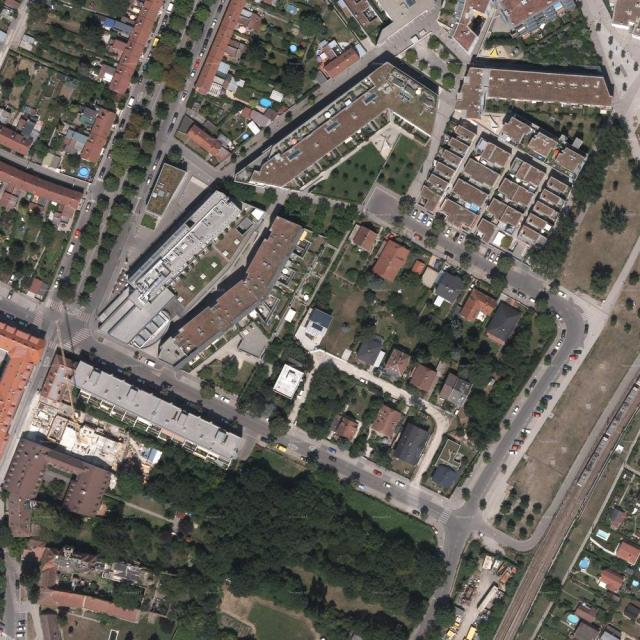building: (226, 41, 460, 245), (410, 87, 595, 268), (64, 359, 245, 474), (123, 187, 244, 304), (0, 436, 114, 559), (25, 394, 144, 476), (454, 59, 613, 119), (172, 279, 261, 358), (237, 214, 304, 302), (106, 0, 165, 97), (190, 0, 248, 96), (39, 546, 155, 588), (108, 281, 177, 348), (37, 586, 143, 624), (59, 99, 118, 166), (214, 4, 267, 67), (498, 0, 576, 39), (426, 438, 473, 492), (40, 352, 84, 407), (291, 304, 336, 354), (315, 37, 362, 81), (482, 301, 524, 348), (184, 122, 231, 164), (371, 238, 412, 285), (391, 422, 432, 467), (458, 287, 499, 330), (207, 59, 248, 101), (342, 0, 385, 36), (234, 322, 273, 361), (96, 286, 134, 325), (98, 298, 136, 335), (437, 373, 473, 410), (369, 404, 404, 442), (238, 97, 277, 131), (272, 364, 305, 400), (206, 60, 235, 100), (0, 124, 34, 158), (432, 270, 465, 305), (407, 362, 440, 395), (353, 334, 385, 368), (347, 224, 380, 254), (595, 566, 627, 596), (382, 348, 412, 380), (333, 413, 363, 443), (99, 15, 134, 39), (605, 506, 629, 533), (26, 276, 51, 301), (573, 601, 600, 624), (105, 35, 129, 59), (418, 265, 441, 290), (140, 445, 162, 467), (18, 33, 39, 54), (97, 64, 117, 85), (41, 151, 63, 170), (216, 132, 236, 152), (178, 114, 196, 136), (60, 357, 78, 378), (411, 259, 427, 277), (246, 120, 262, 136), (76, 166, 91, 180), (270, 90, 284, 102)
dryland: (550, 154, 640, 306)
greenland: (428, 285, 586, 448), (52, 132, 158, 313), (306, 130, 435, 215), (328, 480, 443, 554), (482, 92, 612, 150), (514, 7, 603, 90), (283, 356, 363, 445), (141, 442, 228, 522), (274, 173, 363, 249), (0, 200, 69, 291), (521, 205, 596, 285), (234, 26, 313, 98), (157, 0, 213, 101), (358, 263, 430, 338), (20, 476, 90, 553), (399, 28, 471, 100), (53, 564, 147, 613), (143, 0, 195, 85), (259, 327, 320, 388), (233, 360, 288, 425), (27, 101, 80, 168), (377, 134, 431, 197), (314, 605, 410, 640), (492, 486, 547, 542), (353, 312, 441, 346), (184, 82, 244, 131), (346, 392, 386, 462), (211, 173, 279, 212), (451, 537, 485, 596), (481, 250, 522, 298), (75, 398, 128, 434), (31, 40, 82, 75), (0, 515, 34, 564), (258, 448, 305, 483), (122, 103, 157, 145), (261, 406, 297, 443), (116, 456, 144, 500), (125, 424, 166, 454), (429, 593, 459, 633), (420, 213, 450, 251), (303, 460, 343, 488), (585, 260, 615, 297), (41, 93, 73, 127), (20, 551, 40, 604), (457, 232, 484, 271), (306, 575, 330, 617), (368, 441, 400, 472), (298, 7, 327, 39), (601, 201, 626, 234), (540, 573, 565, 599), (427, 213, 451, 238), (495, 250, 518, 274), (156, 616, 176, 636), (141, 131, 157, 155), (154, 101, 170, 121), (399, 195, 415, 215), (161, 88, 178, 104), (375, 298, 394, 308), (398, 299, 403, 305)
metalled_road: (394, 222, 634, 594), (22, 290, 239, 463), (313, 408, 488, 561), (408, 537, 476, 640), (498, 259, 551, 311), (359, 181, 408, 230), (363, 185, 405, 224), (281, 425, 321, 463), (463, 249, 495, 282), (396, 213, 429, 243), (443, 228, 467, 247), (123, 372, 143, 390), (212, 416, 233, 431)
